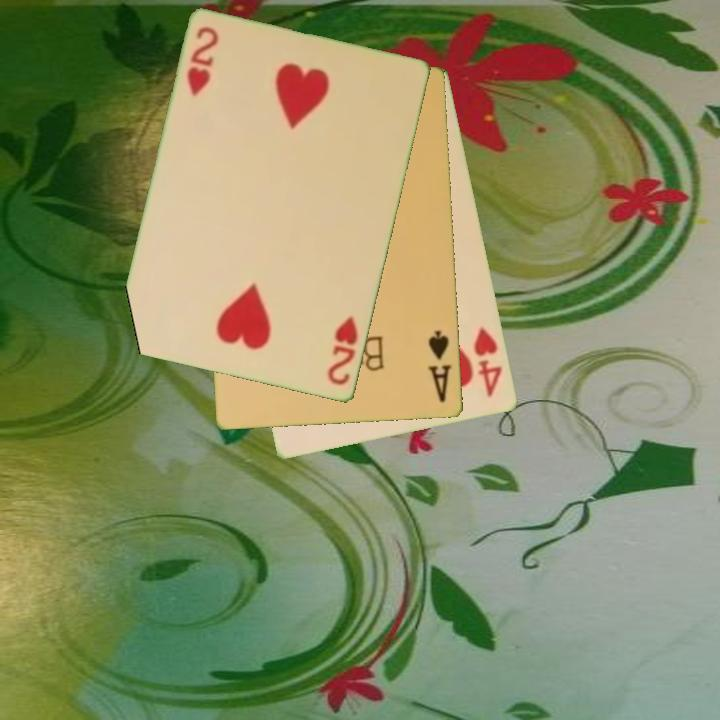2h: (184, 24, 222, 100), (324, 313, 361, 389)
4h: (471, 324, 506, 400)
As: (425, 327, 455, 406)
